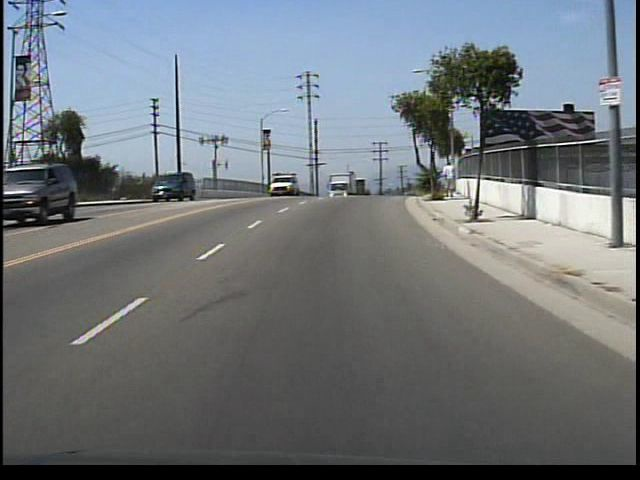person: (441, 159, 460, 202)
